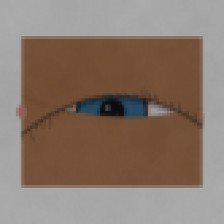hemorrhage_spot: (95, 72, 160, 124)
